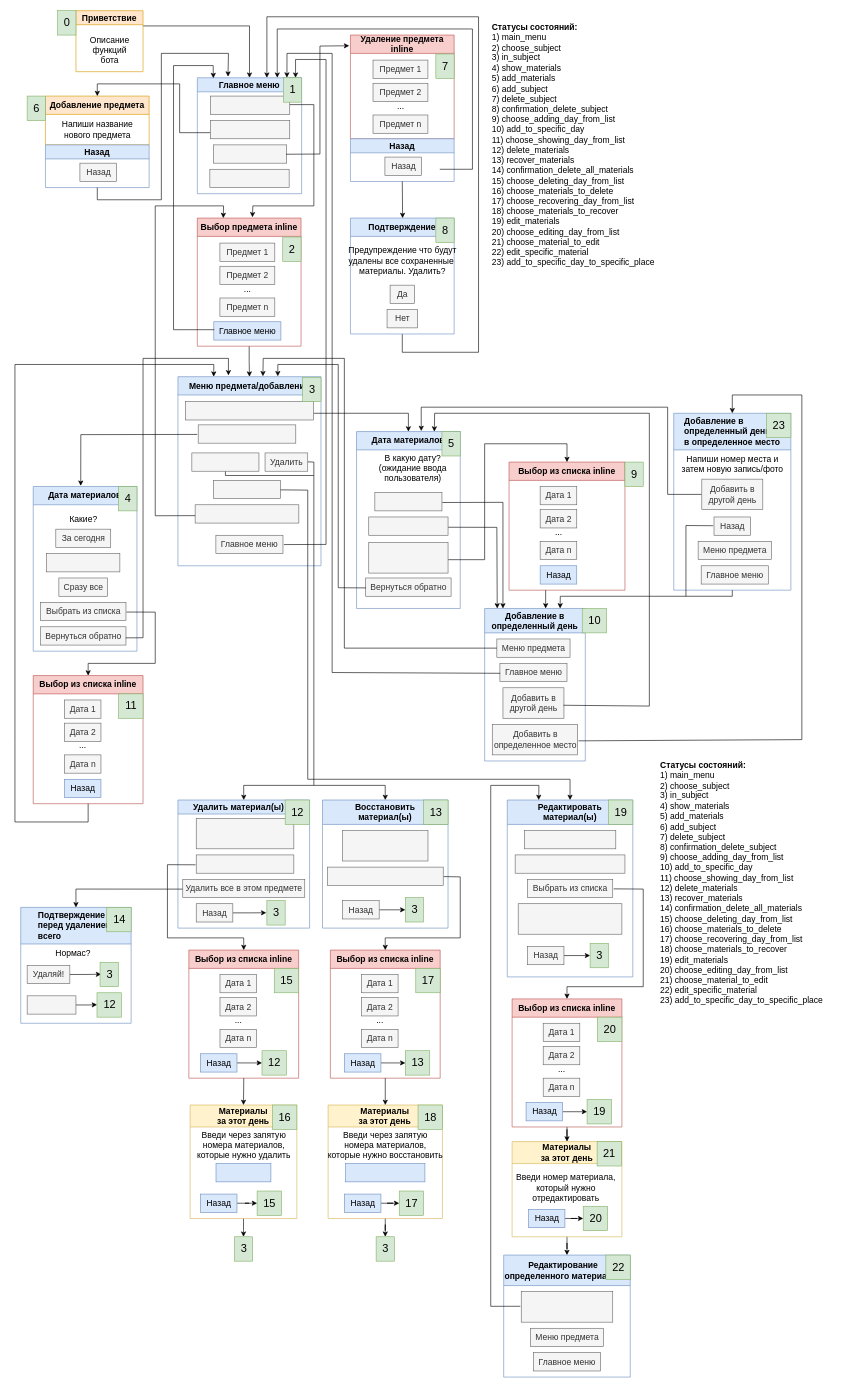
This 841x1388 diagram has some shape labels left out. The centre of each missing label's shape, as x and y in pixels:
Naaaaah: the point at 51,1004
Ввести дату/ выбрать из списка: the point at 408,557
Восстановить: the point at 225,461
Восстановить все: the point at 385,1172
Восстановить последнее удаление: the point at 385,845
Восстановить что-то другое: the point at 385,876
Выбрать другой предмет: the point at 247,513
Выбрать предмет: the point at 250,104
Две недели назад: the point at 408,525
Добавить в определенный день: the point at 249,410
Добавить предмет: the point at 250,129
За прошлый раз: the point at 83,562
Неделю назад: the point at 408,501
Последний добавленный материал: the point at 570,918
Последний материал: the point at 570,839
Посмотреть материалы: the point at 247,433
Предпоследний материал: the point at 570,863
Редактировать: the point at 247,489
Редактировать другой материал: the point at 567,1306
Список предметов: the point at 249,178
Удалить все: the point at 243,1172
Удалить последнее добавление: the point at 245,833
Удалить предмет: the point at 250,153
Удалить что-то другое: the point at 245,863
